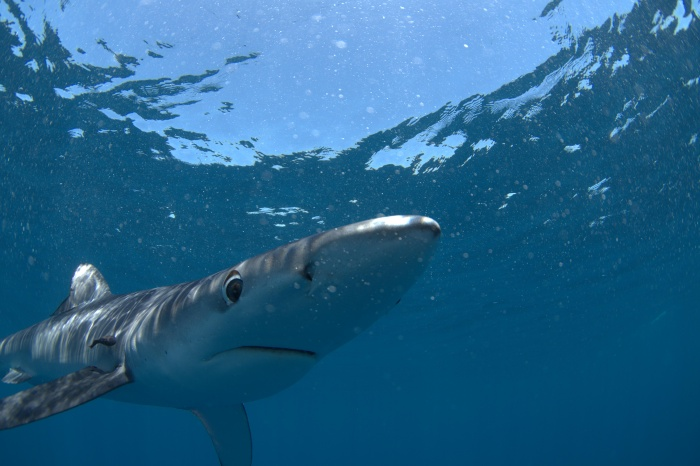Azul: (1, 177, 510, 464)
